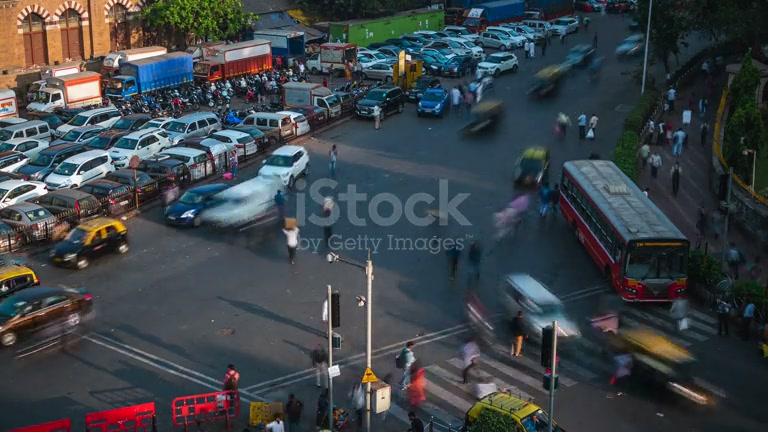bus: (557, 158, 690, 306), (191, 41, 273, 85)
car: (0, 284, 97, 349), (196, 174, 287, 232), (50, 218, 131, 271), (500, 272, 567, 333), (461, 390, 557, 432), (164, 178, 240, 227), (42, 149, 114, 191), (27, 188, 105, 223), (1, 202, 64, 243), (258, 145, 310, 191), (242, 110, 311, 141), (107, 132, 162, 169), (207, 127, 262, 160), (354, 86, 406, 120), (459, 98, 504, 137), (0, 178, 49, 211), (512, 146, 550, 188), (0, 264, 40, 302), (477, 51, 519, 77), (417, 87, 450, 119)
pedestrian: (397, 341, 417, 387), (510, 310, 527, 358), (283, 218, 300, 265), (284, 393, 303, 431), (716, 296, 733, 337), (315, 389, 331, 430), (741, 298, 756, 340), (407, 410, 424, 431)
